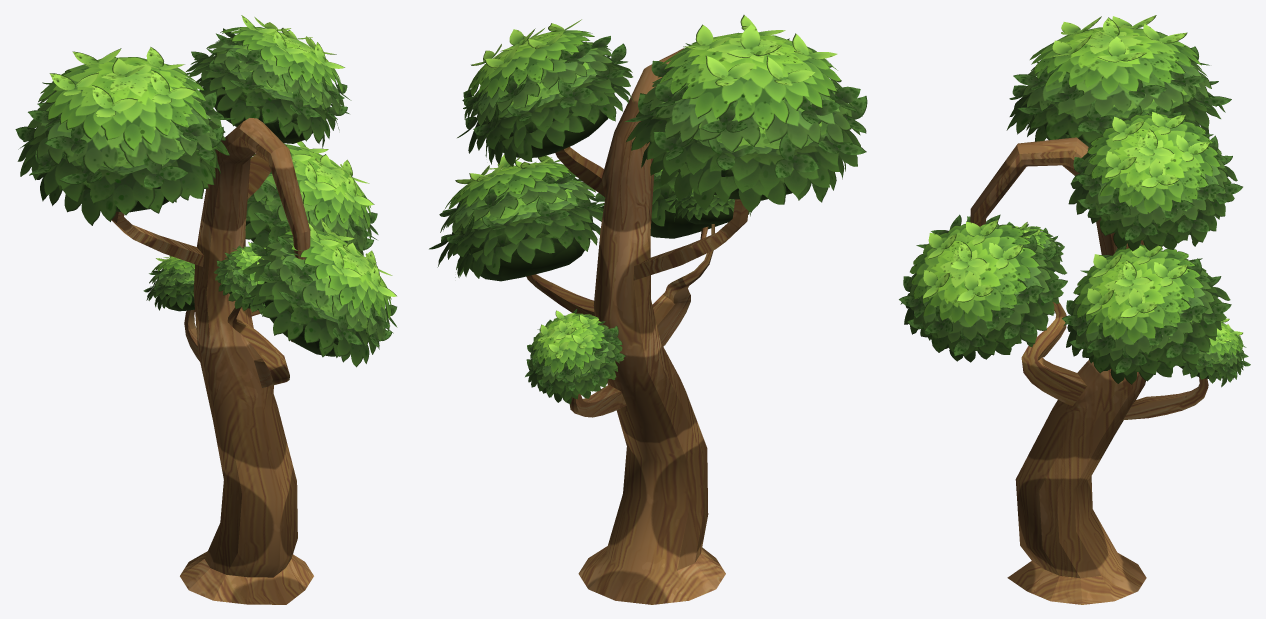
The model's file is arbol new.fbx.
The picture shows the model from 3 angles, left to right: view 1: azimuth 30°, elevation 25°; view 2: azimuth 150°, elevation 25°; view 3: azimuth 270°, elevation 25°; orthographic projection. The views are drawn at different scales.
Parts seen in each view (by area): view 1: Arbol_Central, Bush4, Bush6, Bush2, Bush1, Bush5, Bush3; view 2: Arbol_Central, Bush4, Bush2, Bush1, Bush5, Bush6, Bush3; view 3: Arbol_Central, Bush4, Bush2, Bush6, Bush1, Bush5, Bush3.
Part boxes in pixels (x1,y1,x2,y2): Arbol_Central: (111,118,313,604); Bush4: (15,47,235,225); Bush6: (242,219,397,367); Bush2: (185,15,351,147); Bush1: (245,141,378,255); Bush5: (143,256,194,311); Bush3: (214,242,265,314); Arbol_Central: (526,48,748,604); Bush4: (624,15,867,212); Bush2: (457,19,634,166); Bush1: (429,155,605,281); Bush5: (525,308,625,403); Bush6: (601,169,725,238); Bush3: (665,189,750,224); Arbol_Central: (970,137,1208,604); Bush4: (1006,15,1231,146); Bush2: (1068,105,1242,251); Bush6: (899,214,1067,362); Bush1: (1062,244,1231,384); Bush5: (1179,318,1250,387); Bush3: (1015,222,1064,263).
Bounding box in the file's own units: 3.58 × 4.98 × 3.17.
